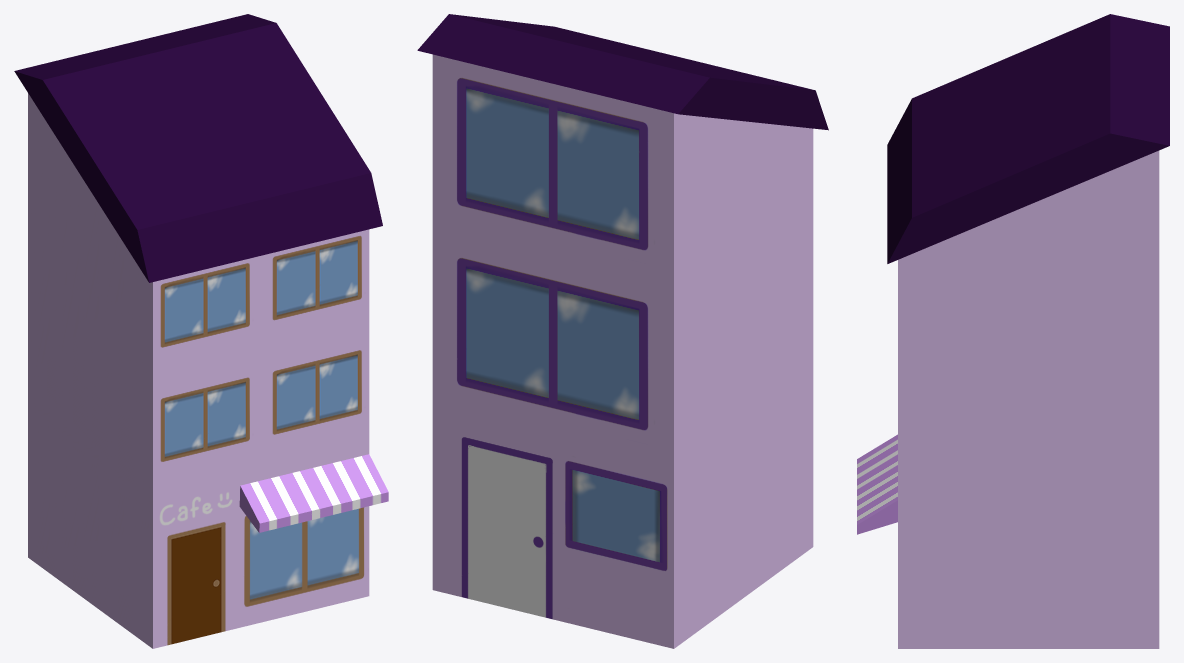
File: Building2.fbx
3 renders of one model, left to right at view 1: azimuth 30°, elevation 25°; view 2: azimuth 150°, elevation 25°; view 3: azimuth 270°, elevation 25°, orthographic. The views are drawn at different scales.
Parts seen in each view (by area): view 1: pCube9; view 2: pCube9; view 3: pCube9.
Boxes of the visible parts, left/top/right/bottom form: pCube9: left=14, top=14, right=388, bottom=648; pCube9: left=417, top=14, right=828, bottom=648; pCube9: left=857, top=14, right=1169, bottom=648.
Size of the model in its own units: 2.83 by 5.74 by 3.13.
